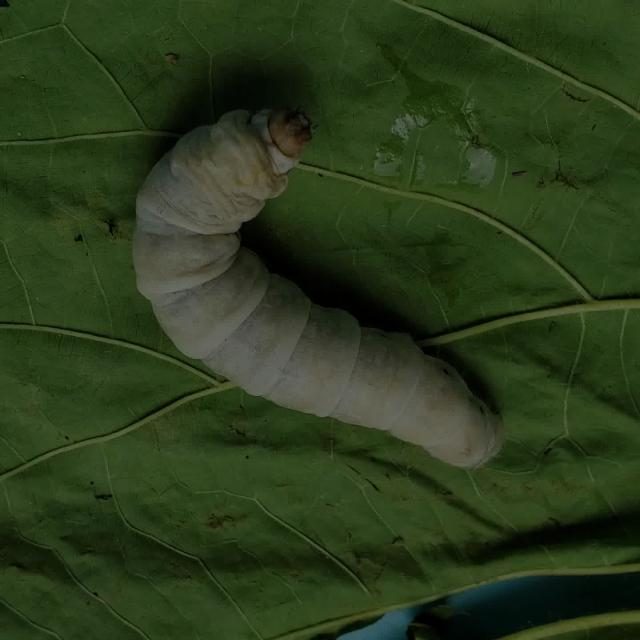Grasserie: (119, 83, 517, 486)
